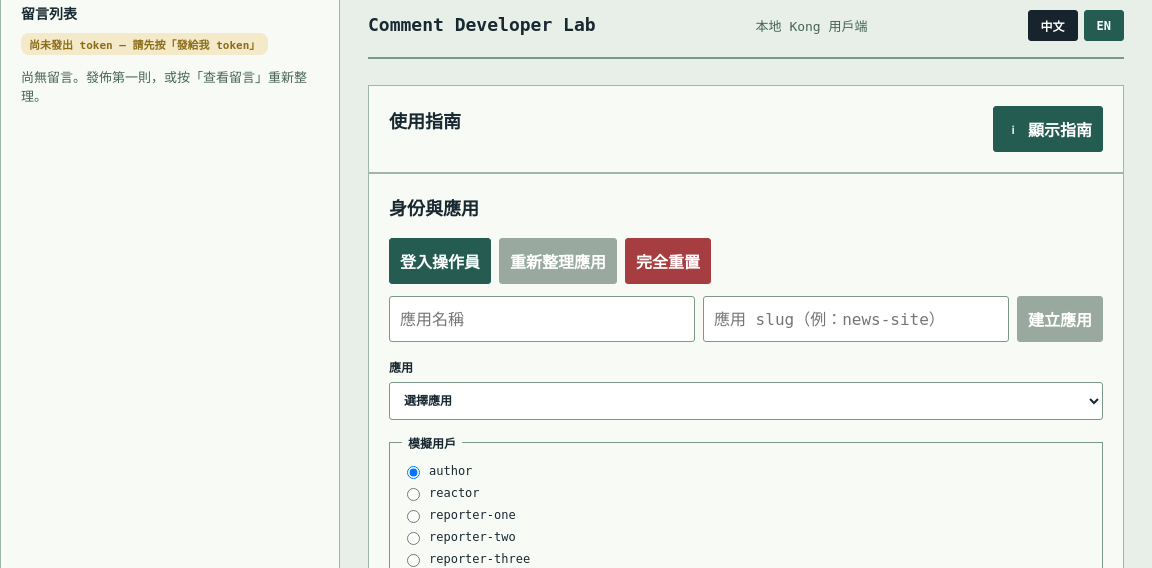
Test: Lab comment board visibility (sidebar vs inline) › both sidebar and inline board show the same comments
Step 1. Click the button "登入操作員" → (440, 261), box left=389, top=238, right=491, bottom=284
(page scrolled)
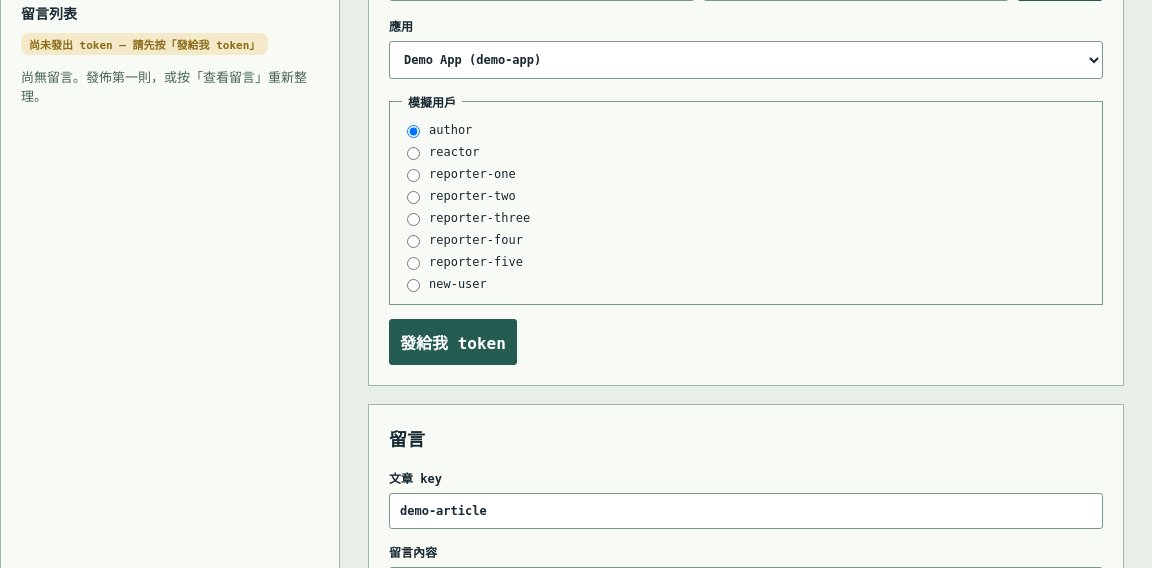
Step 2. Click the button "發給我 token" → (453, 342), box left=389, top=319, right=517, bottom=365
(page scrolled)
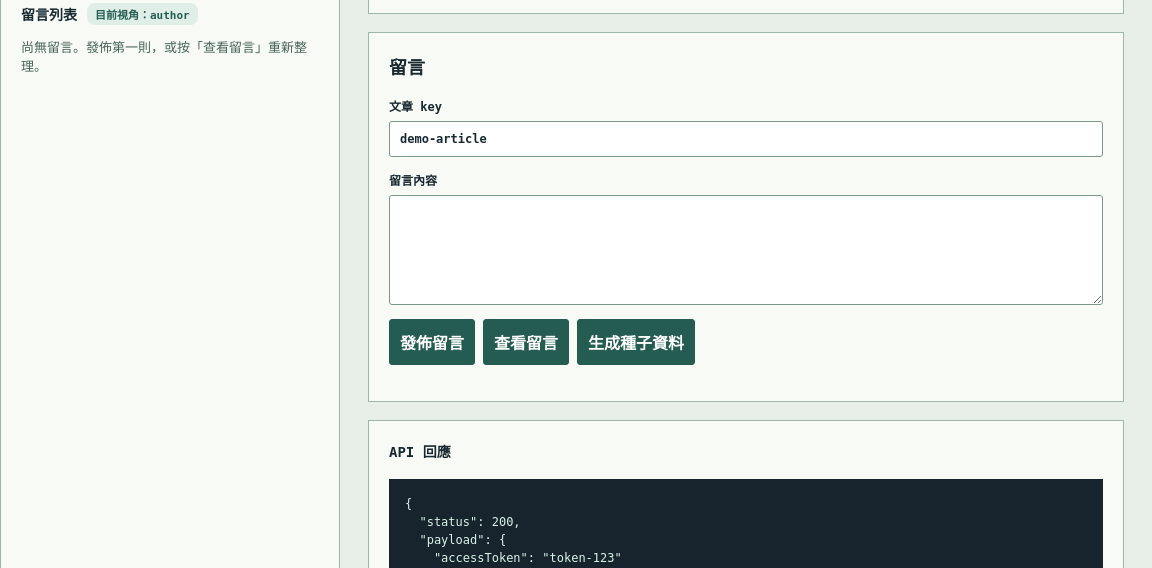
Step 3. Click the button "查看留言" → (526, 342), box left=483, top=319, right=569, bottom=365
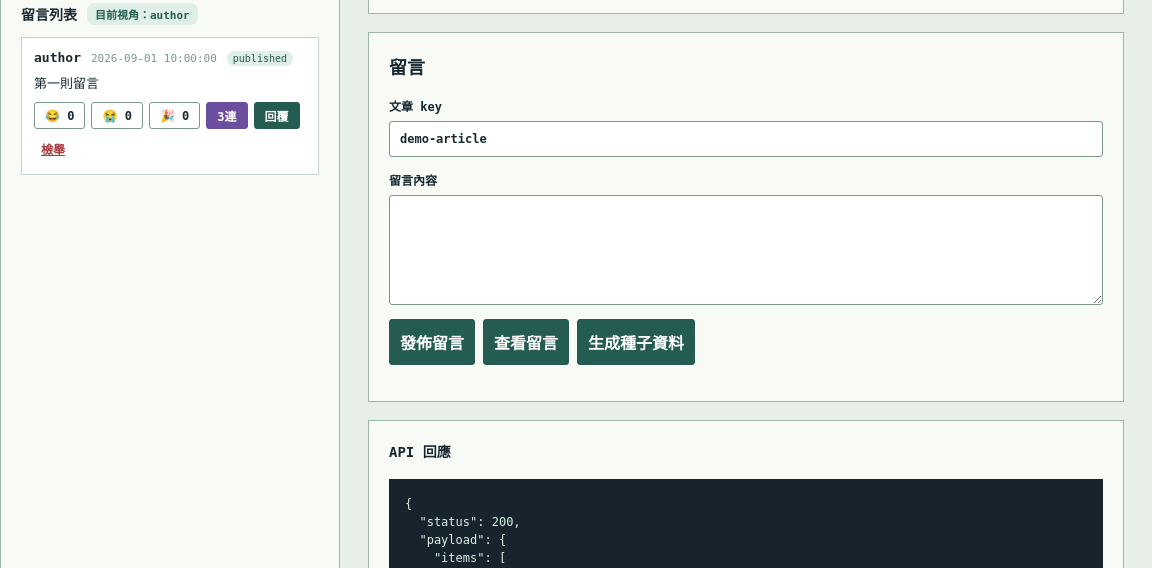
Check: the number of elements with class "comment" is 1, box left=21, top=37, right=319, bottom=175
